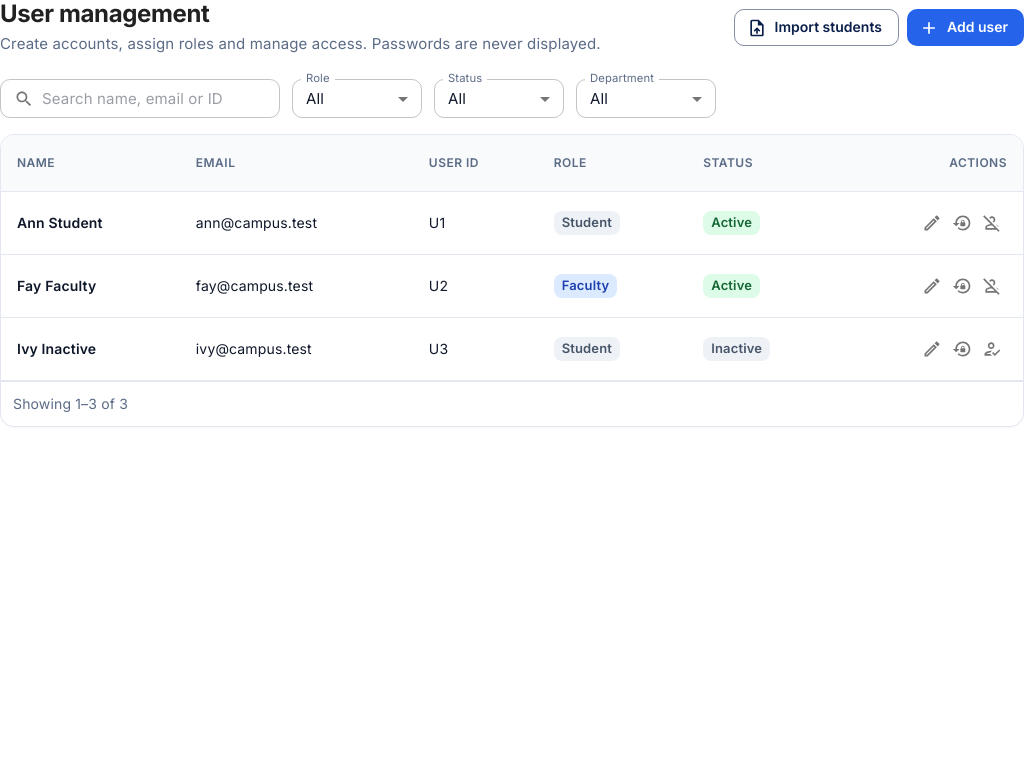
Test: status and password reset › a 409 for "last administrator" is surfaced in the confirm dialog and nothing is reported as changed
The image size is (1024, 768).
What coordinates should you click on to do the following:
click the button named "Deactivate Ann Student"
I would click on:
 (992, 223)
Its box is [977,208,1007,238].
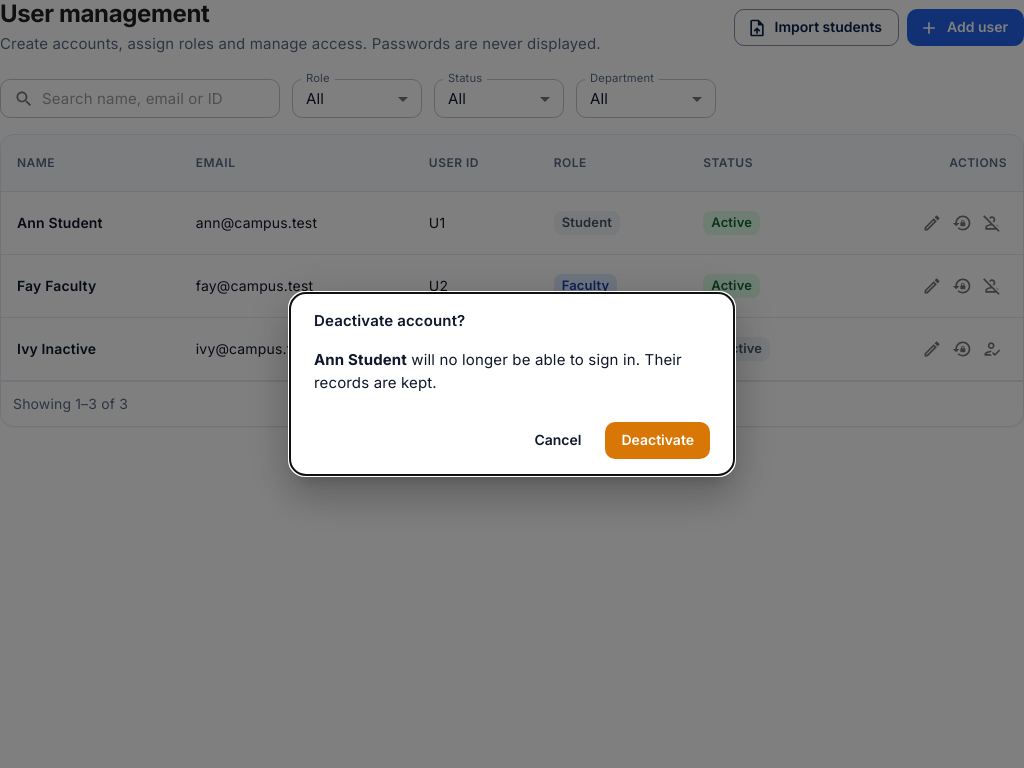
What coordinates should you click on to do the following:
click the button "Deactivate"
I would click on:
 (658, 441)
Its box is [605,422,710,459].
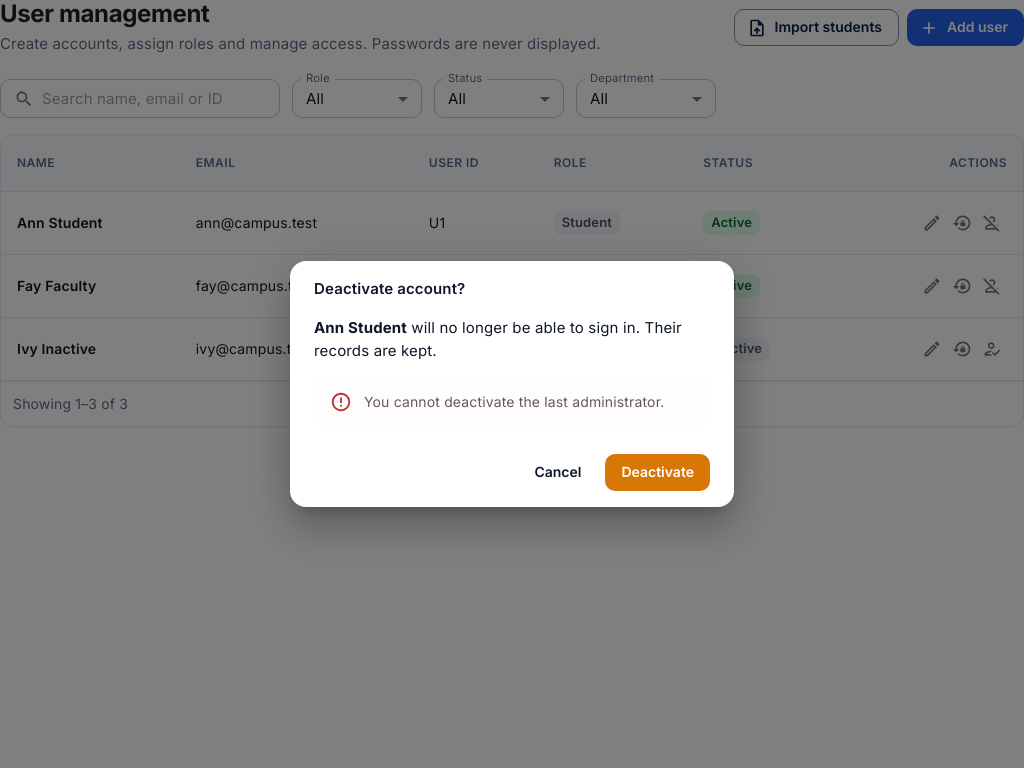
Check: the text "You cannot deactivate the last administrator." is shown, box [364,393,664,410]
